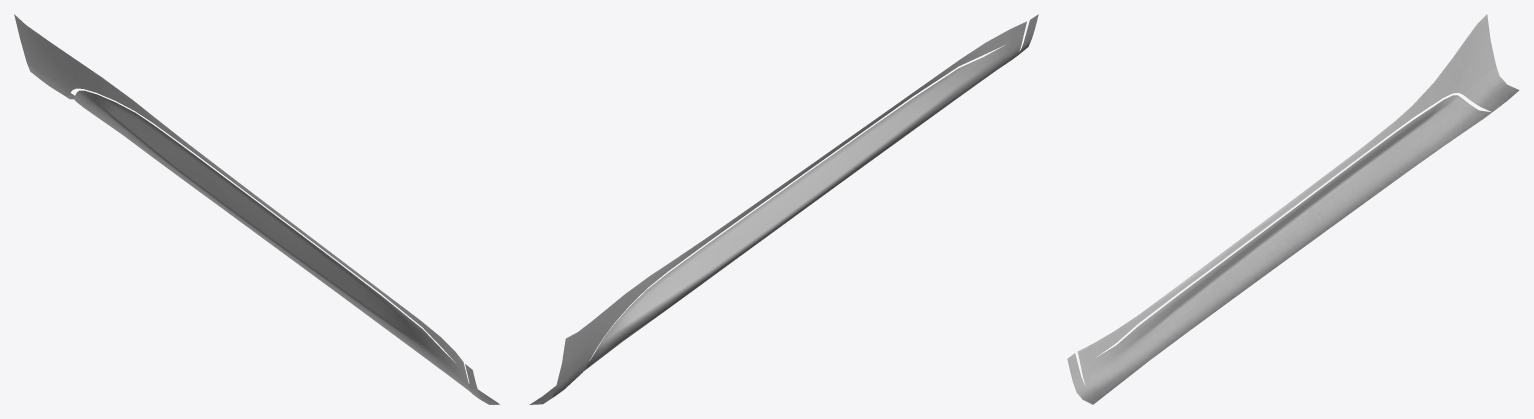
File: M2passsideskirts.glb
3 renders of one model, left to right at view 1: azimuth 30°, elevation 25°; view 2: azimuth 150°, elevation 25°; view 3: azimuth 330°, elevation 25°, orthographic. The views are drawn at different scales.
Visible parts, largest first — view 1: Object_23.030; view 2: Object_23.030; view 3: Object_23.030.
Part boxes in pixels (x1=…): Object_23.030: x1=14, y1=14, x2=499, y2=404; Object_23.030: x1=529, y1=14, x2=1038, y2=404; Object_23.030: x1=1067, y1=14, x2=1519, y2=404.
Bounding box in the file's own units: 0.0936 × 0.1731 × 1.96.
1 material, 1 textured.
